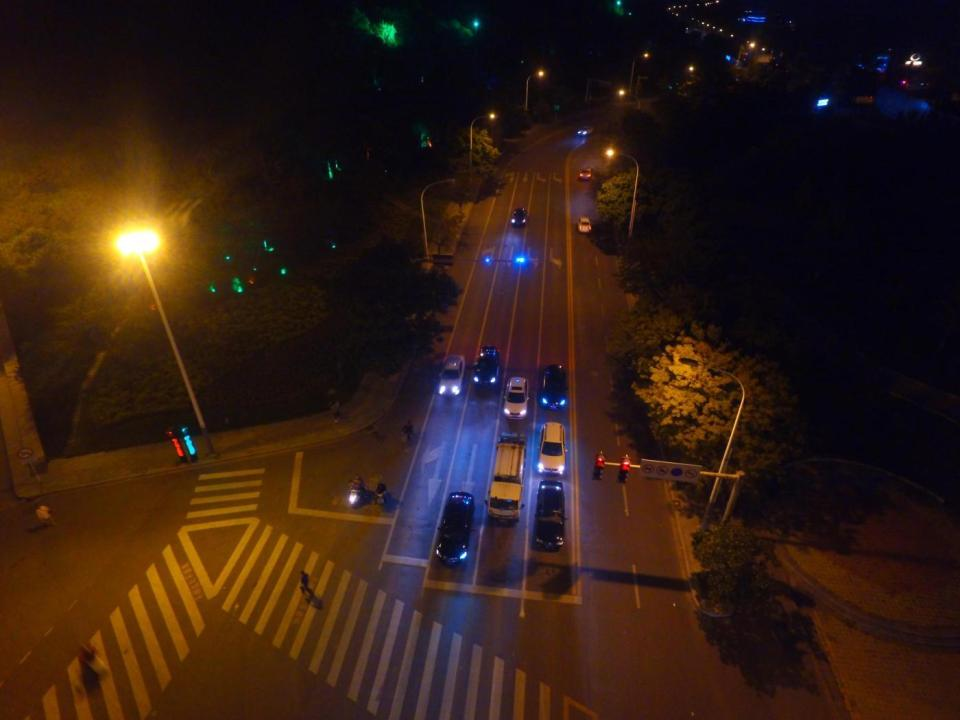car: (435, 492, 474, 566), (533, 480, 567, 549), (537, 422, 566, 475), (539, 364, 567, 409), (472, 344, 500, 388), (437, 354, 465, 397), (504, 376, 529, 420), (512, 207, 526, 228), (576, 217, 590, 234), (578, 166, 592, 182), (577, 124, 593, 137)
truck: (485, 432, 528, 525)
